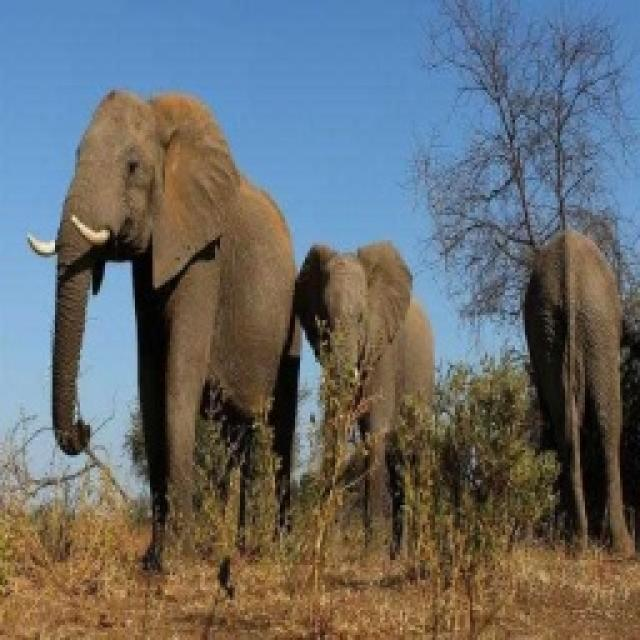not_pig: (25, 88, 297, 572), (290, 238, 435, 558), (520, 228, 638, 558)
